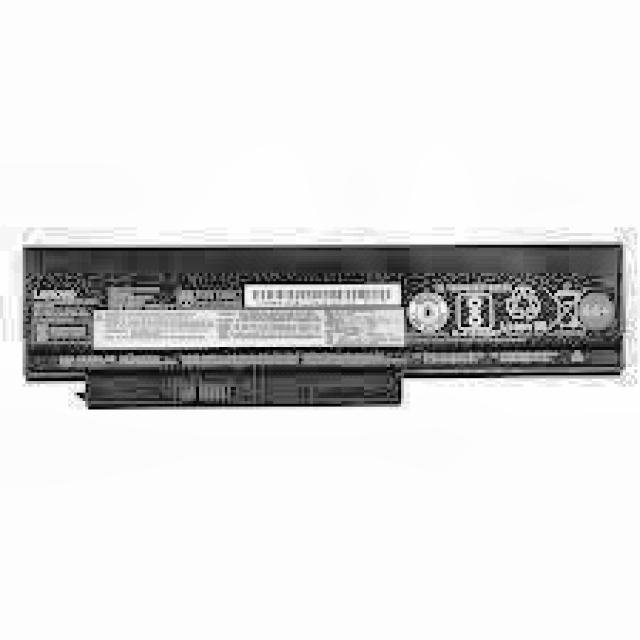Battery: (23, 242, 626, 409)
